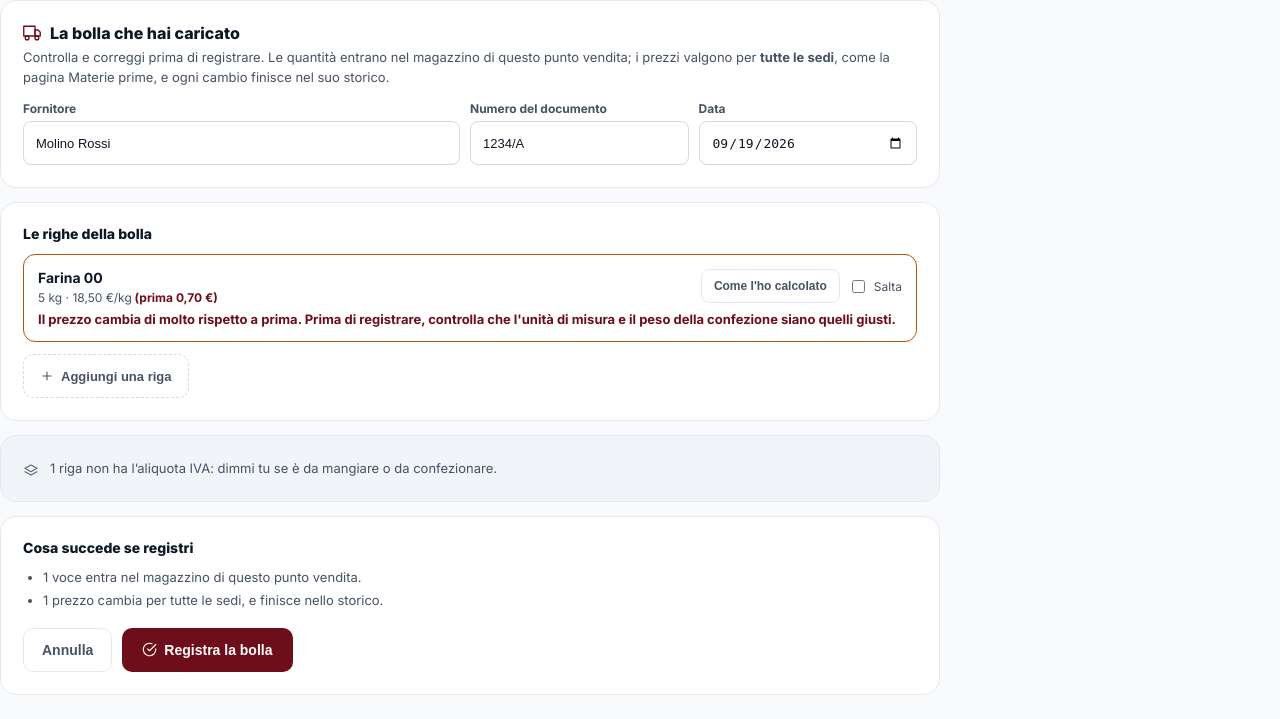
Il menù delle unità contiene anche quello che c'è scritto sulla bolla › un'unità già nostra non viene ripetuta nel menù
What coordinates should you click on to do the following:
click the button "Come l'ho calcolato"
I would click on:
 (770, 286)
Its box is [701, 269, 840, 303].
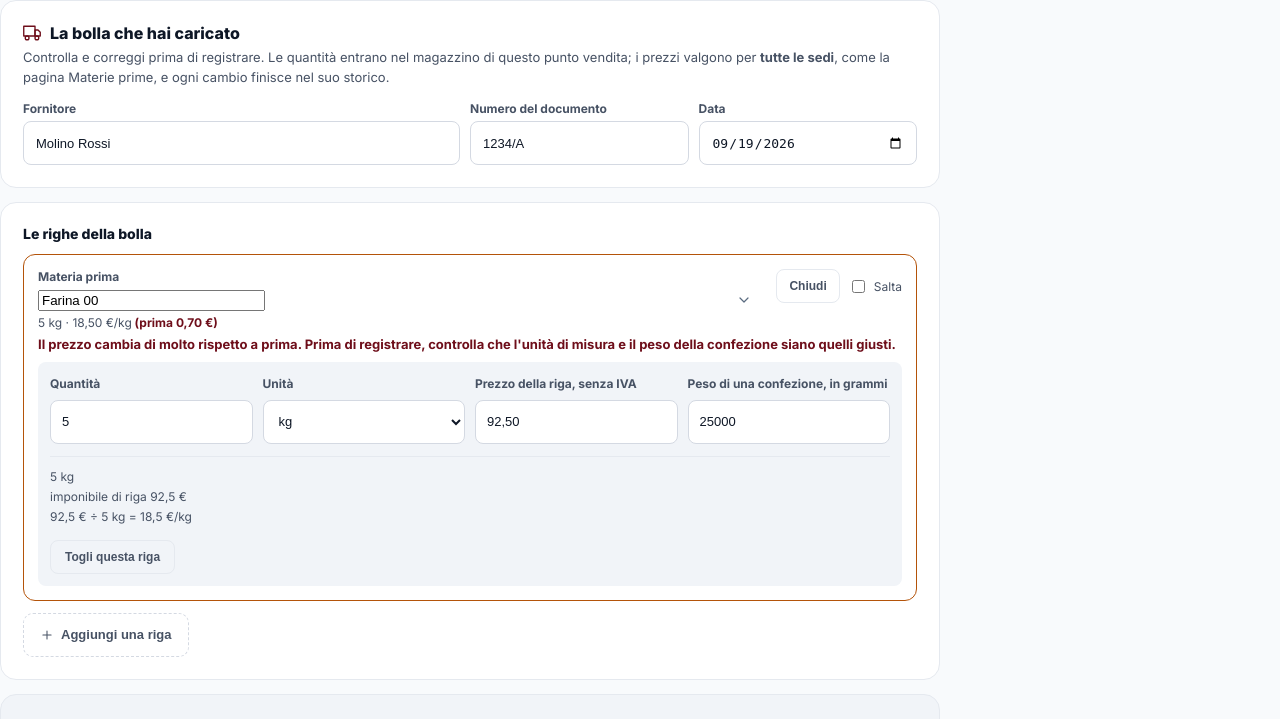
Expected: the dropdown labelled "Unità" shows "kg", [262, 400, 465, 444]
